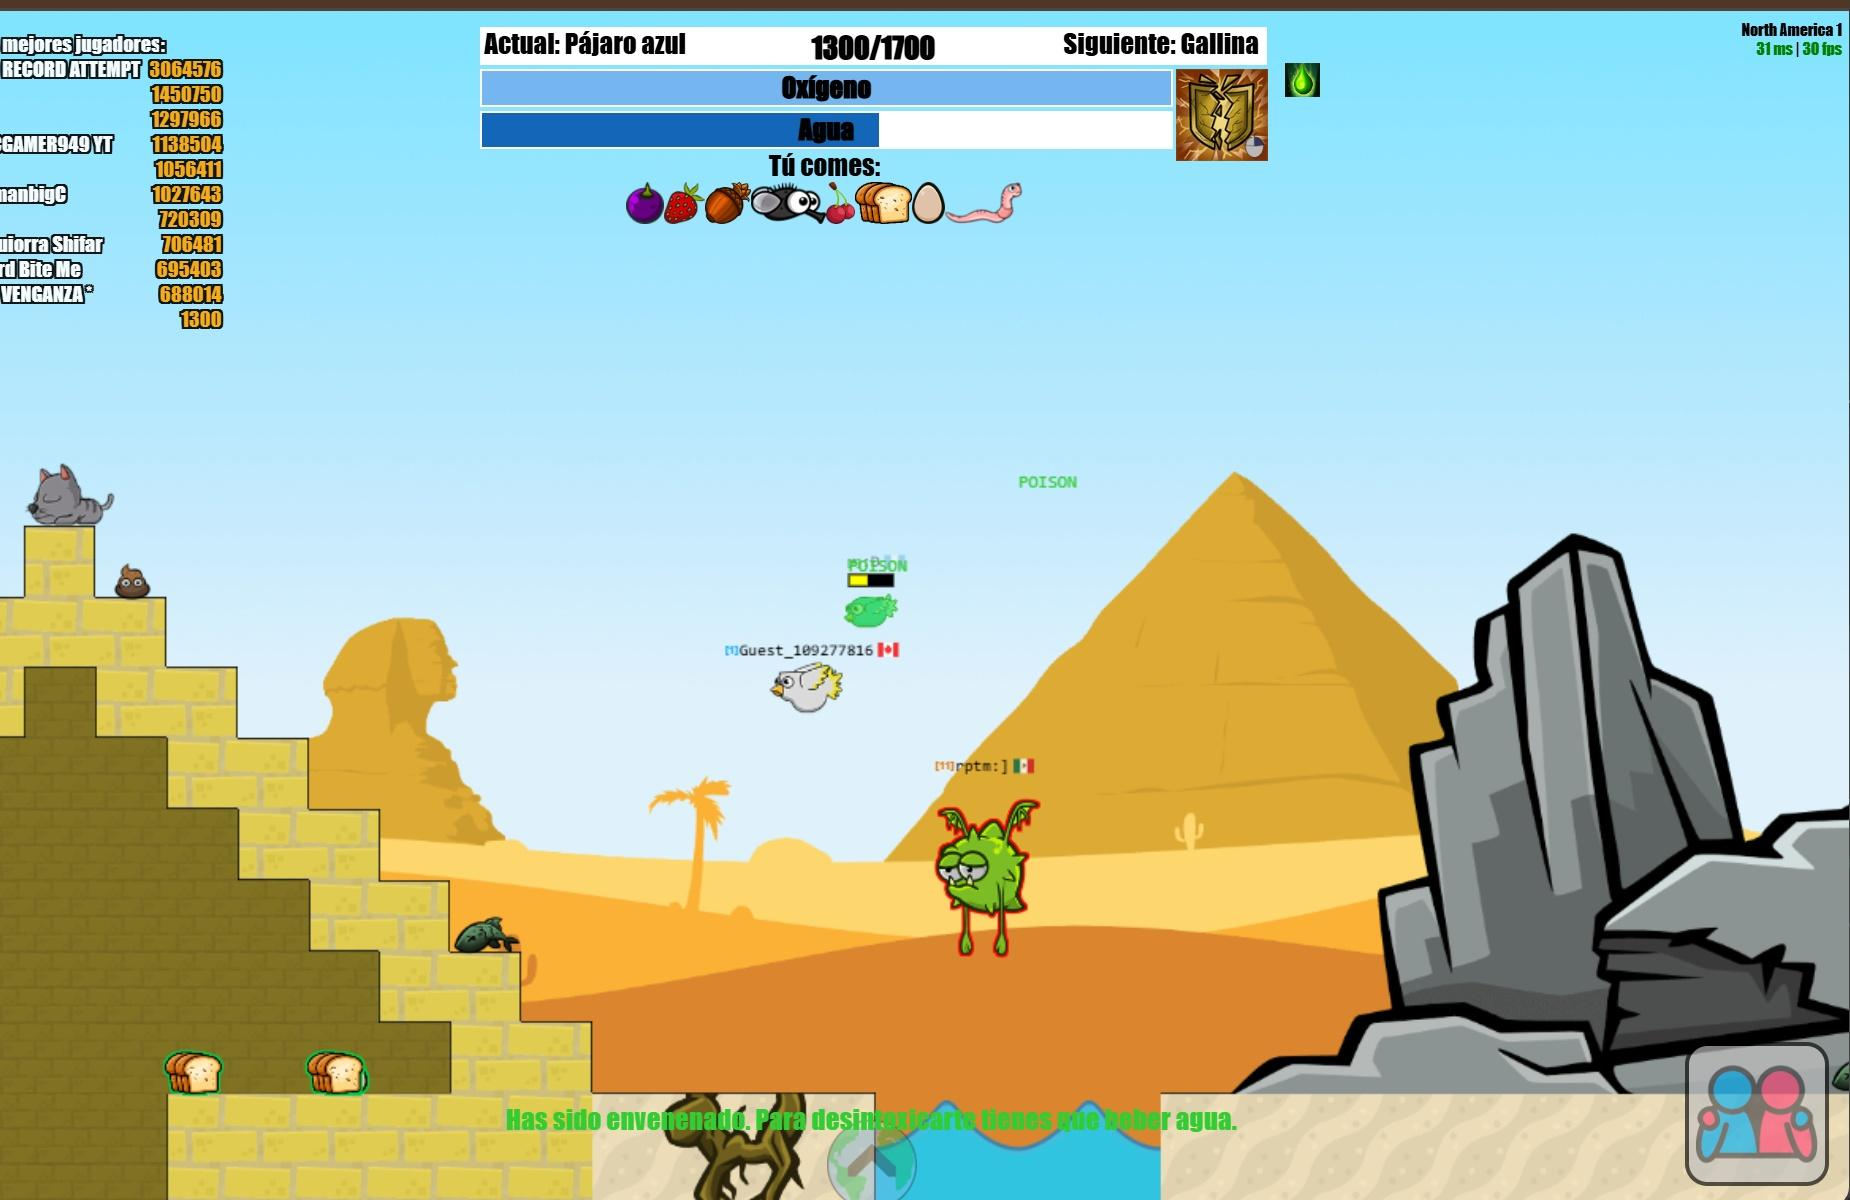arandano: (625, 182, 664, 226)
avellana: (705, 181, 751, 224)
fresa: (665, 180, 705, 228)
gato: (23, 462, 116, 528)
gaviota: (771, 660, 844, 716)
guinda: (826, 180, 856, 225)
gusano: (947, 180, 1020, 227)
huevo: (913, 181, 945, 225)
mosca: (749, 181, 826, 225)
mounstro: (939, 802, 1033, 957)
p_azul: (845, 595, 900, 627)
pan: (305, 1044, 373, 1096), (162, 1042, 228, 1095), (857, 181, 910, 225)
pescado: (453, 910, 521, 952)
popo: (113, 559, 154, 598)
raiz: (667, 1081, 804, 1200)
